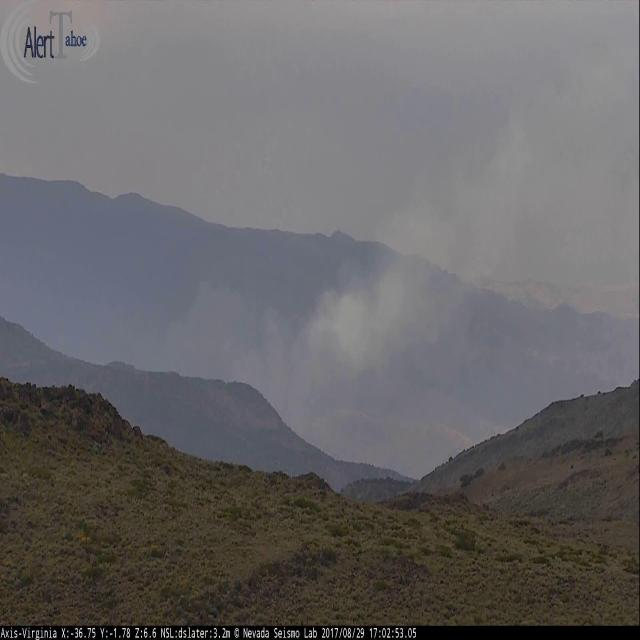smoke: (153, 55, 640, 446)
